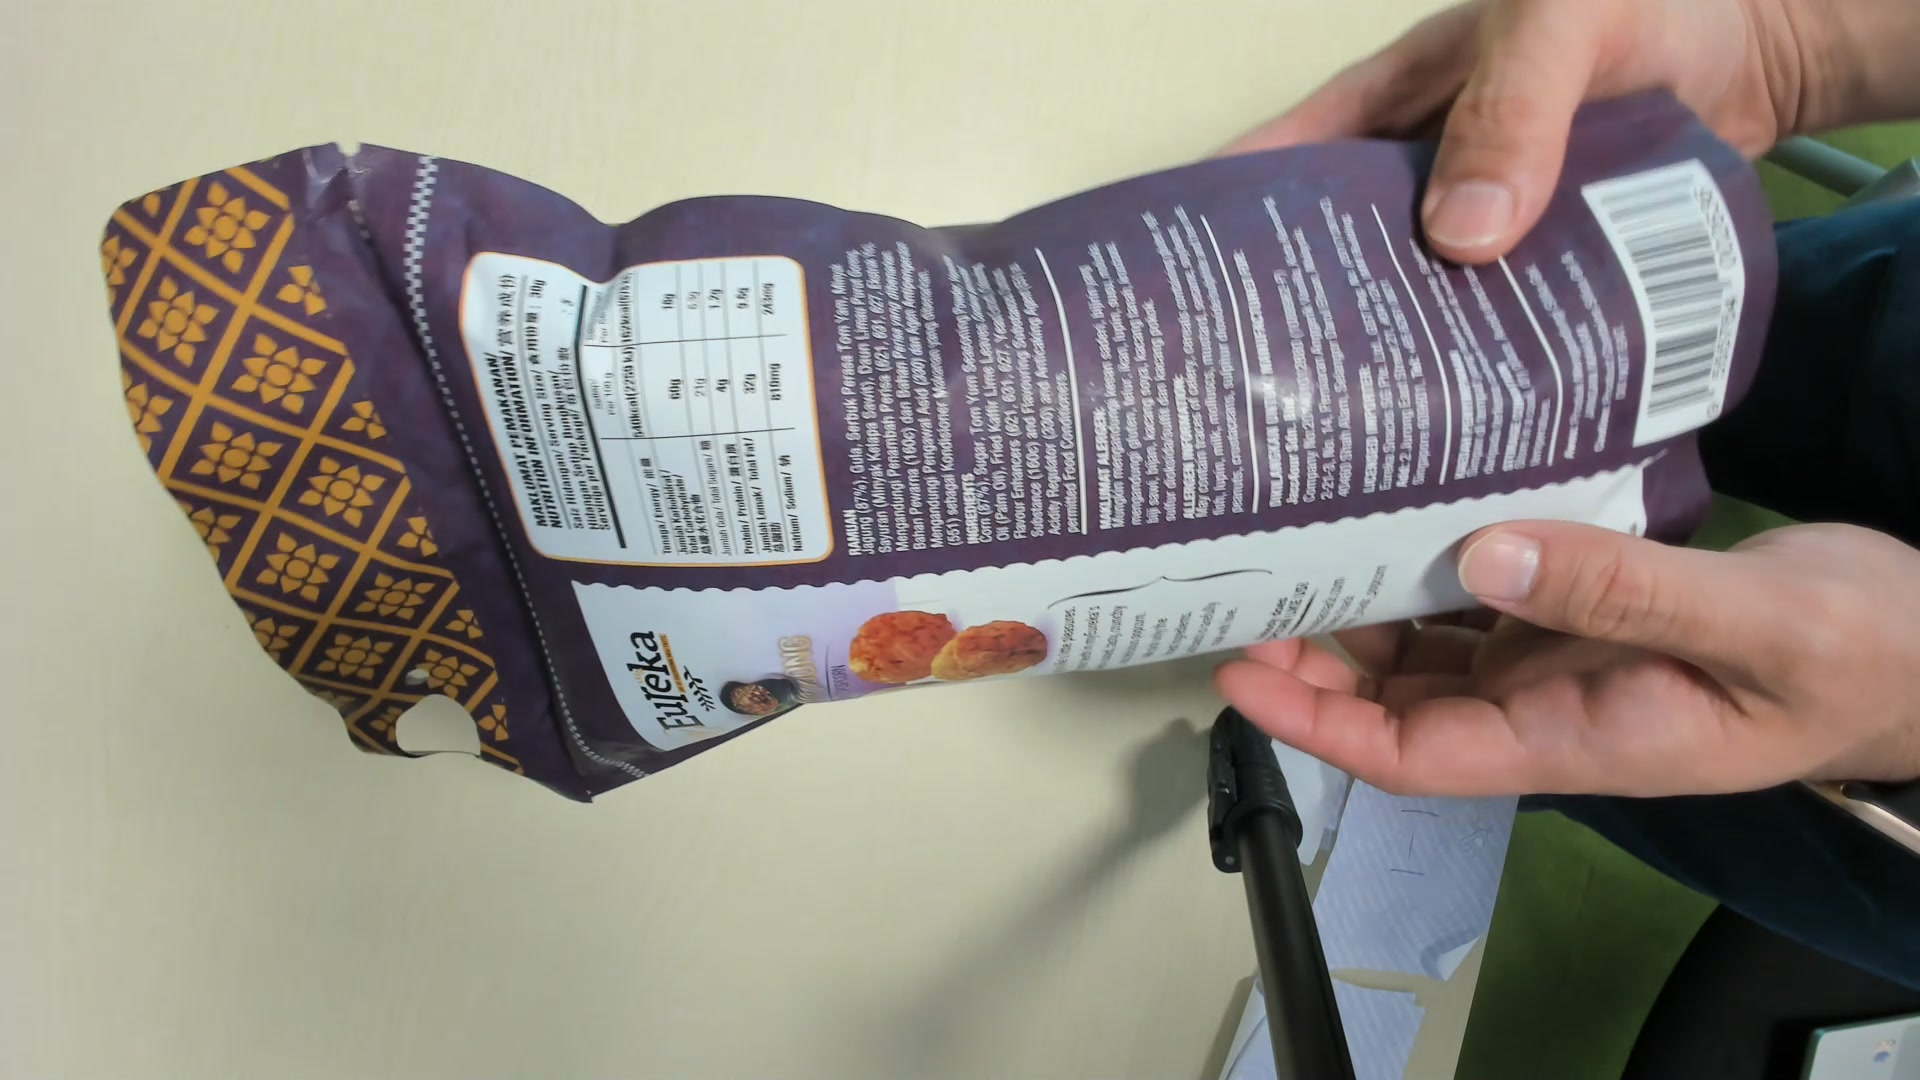PotatoChipsKeropok_100-199g_Halal_NonHealthy: (107, 109, 1745, 810)
